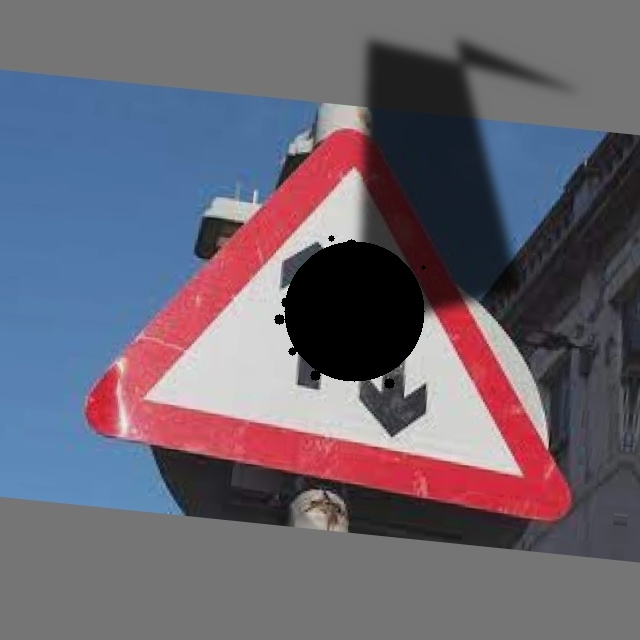Mandatory_Two_Way_Traffic: (111, 115, 594, 513)
